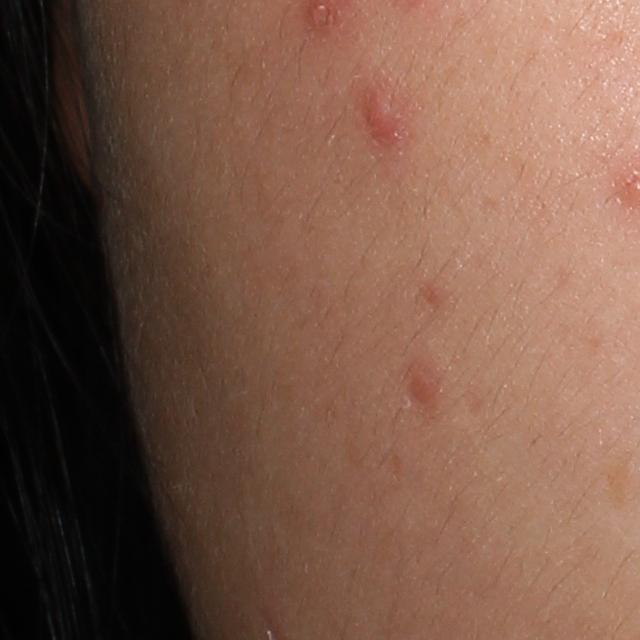papule: (357, 76, 409, 147), (405, 367, 438, 407)
